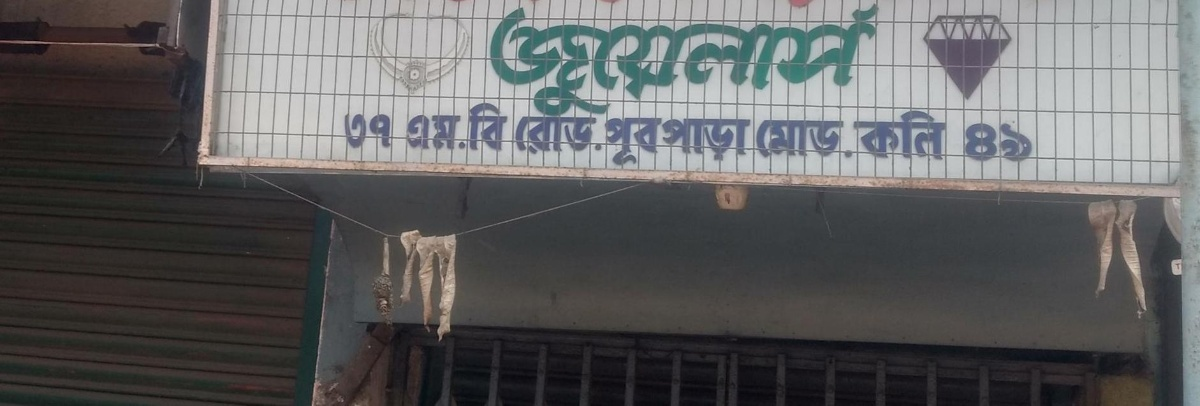text: (497, 2, 512, 120), (513, 2, 528, 120), (529, 2, 544, 120), (545, 2, 560, 120), (561, 2, 576, 120), (577, 2, 592, 120), (593, 2, 608, 120), (609, 2, 624, 120), (625, 2, 640, 120), (641, 2, 656, 120), (657, 2, 672, 120), (673, 2, 688, 120), (689, 2, 704, 120), (705, 2, 720, 120), (721, 2, 736, 120), (737, 2, 752, 120), (753, 2, 768, 120), (769, 2, 784, 120), (785, 2, 800, 120), (801, 2, 816, 120), (817, 2, 832, 120), (833, 2, 848, 120), (849, 2, 864, 120), (865, 2, 880, 120), (487, 2, 496, 120), (609, 113, 624, 170), (625, 113, 640, 170), (641, 113, 656, 170), (657, 113, 672, 170), (673, 113, 688, 170), (689, 113, 704, 170), (705, 113, 720, 170), (721, 113, 736, 170), (737, 113, 752, 170), (465, 98, 480, 154), (481, 98, 496, 154), (865, 107, 880, 163), (881, 107, 896, 163), (897, 107, 912, 163), (913, 107, 928, 163), (929, 107, 944, 163), (497, 98, 511, 154), (769, 117, 784, 163), (785, 117, 800, 163), (801, 117, 816, 163), (817, 117, 832, 163), (833, 117, 848, 163), (961, 120, 976, 166), (977, 120, 992, 166), (993, 120, 1008, 166), (1009, 120, 1024, 166), (852, 107, 864, 163), (417, 112, 432, 154), (433, 112, 448, 154), (449, 112, 464, 154), (513, 116, 528, 156), (529, 116, 544, 156), (545, 116, 560, 156), (561, 116, 576, 156), (577, 116, 592, 156), (755, 117, 768, 163), (593, 116, 607, 156), (353, 114, 368, 151), (369, 114, 384, 151), (1025, 120, 1037, 166), (403, 112, 416, 154), (385, 114, 396, 151), (881, 2, 884, 120), (849, 117, 856, 163), (344, 114, 352, 151), (945, 107, 949, 163), (465, 112, 468, 154), (607, 113, 608, 170), (753, 113, 754, 170), (959, 120, 960, 166)
